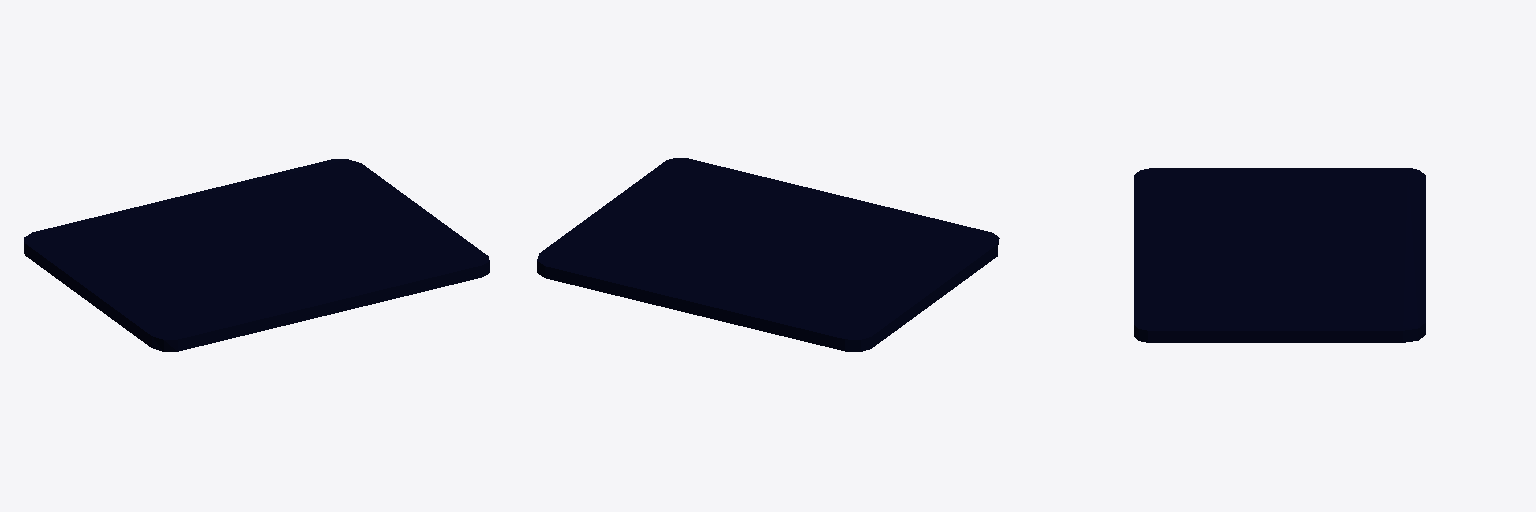
Rendered from CuttingBoard.obj.
3 views of the same model, side by side, from view 1: azimuth 30°, elevation 25°; view 2: azimuth 150°, elevation 25°; view 3: azimuth 270°, elevation 25° (orthographic).
Visible parts, largest first — view 1: Cube; view 2: Cube; view 3: Cube.
Part boxes in pixels (x1,y1,x2,y2): Cube: (24, 159, 489, 351); Cube: (537, 158, 999, 351); Cube: (1134, 168, 1425, 342).
Bounding box in the file's own units: 8.65 × 0.3357 × 6.55.